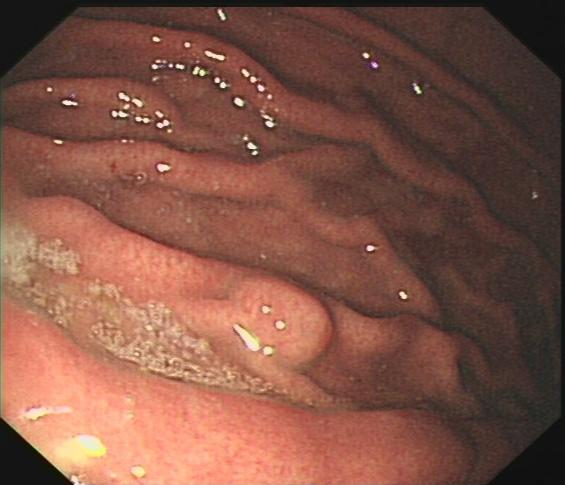Polyp: (230, 268, 335, 375)
